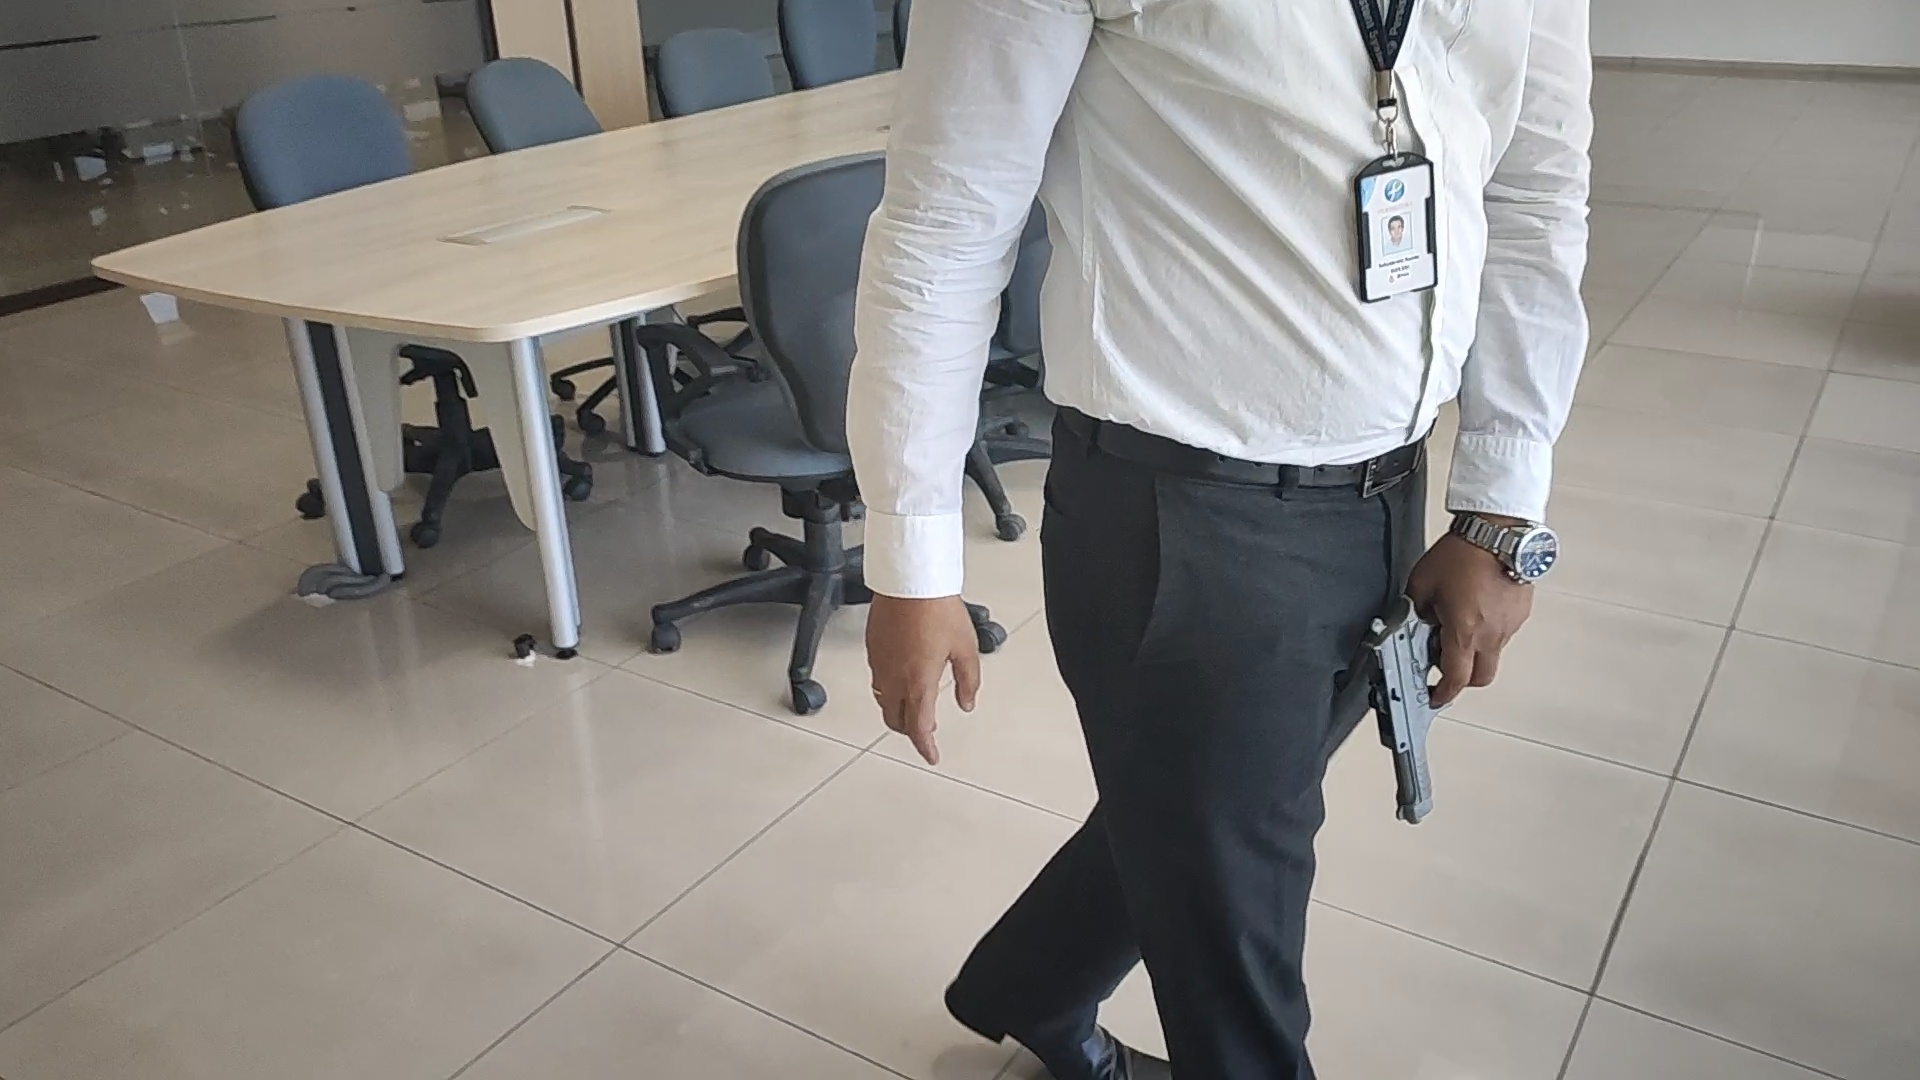gun: (1367, 596, 1447, 822)
